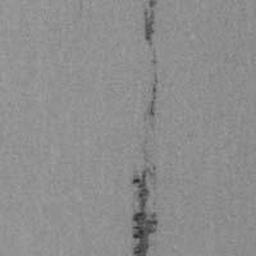Inclusion: (131, 138, 161, 256), (142, 0, 159, 68), (148, 73, 160, 116)
